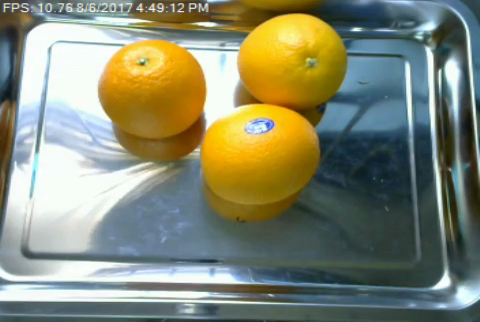Orange: (200, 103, 320, 205), (97, 39, 208, 138), (235, 13, 347, 110)
